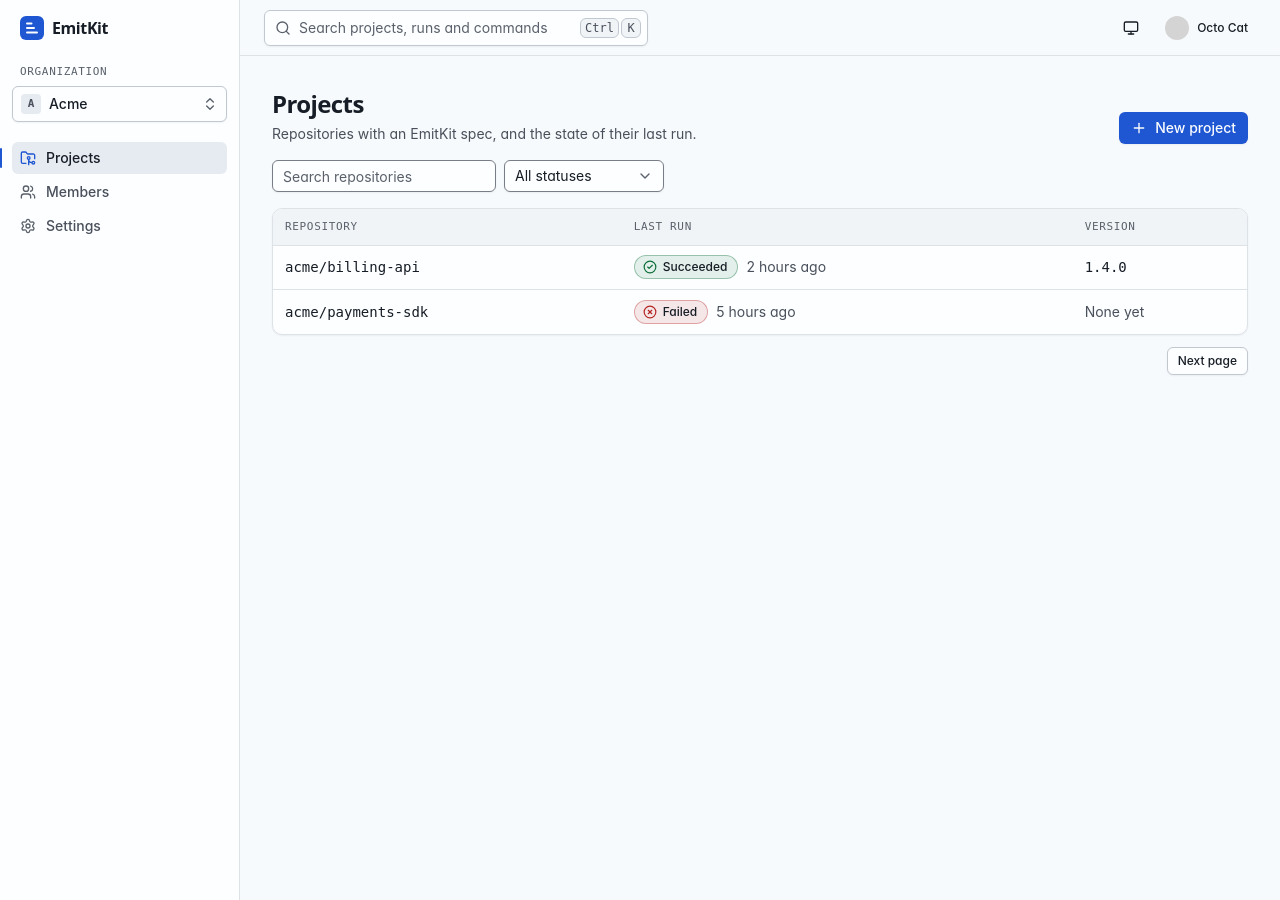
Test: a cursor page with no rows offers a way back to the first page
Expected: the link "acme/billing-api" is shown, [285,259,420,275]
Click the button "Next page".
click(1207, 360)  # box [1167,346,1248,374]
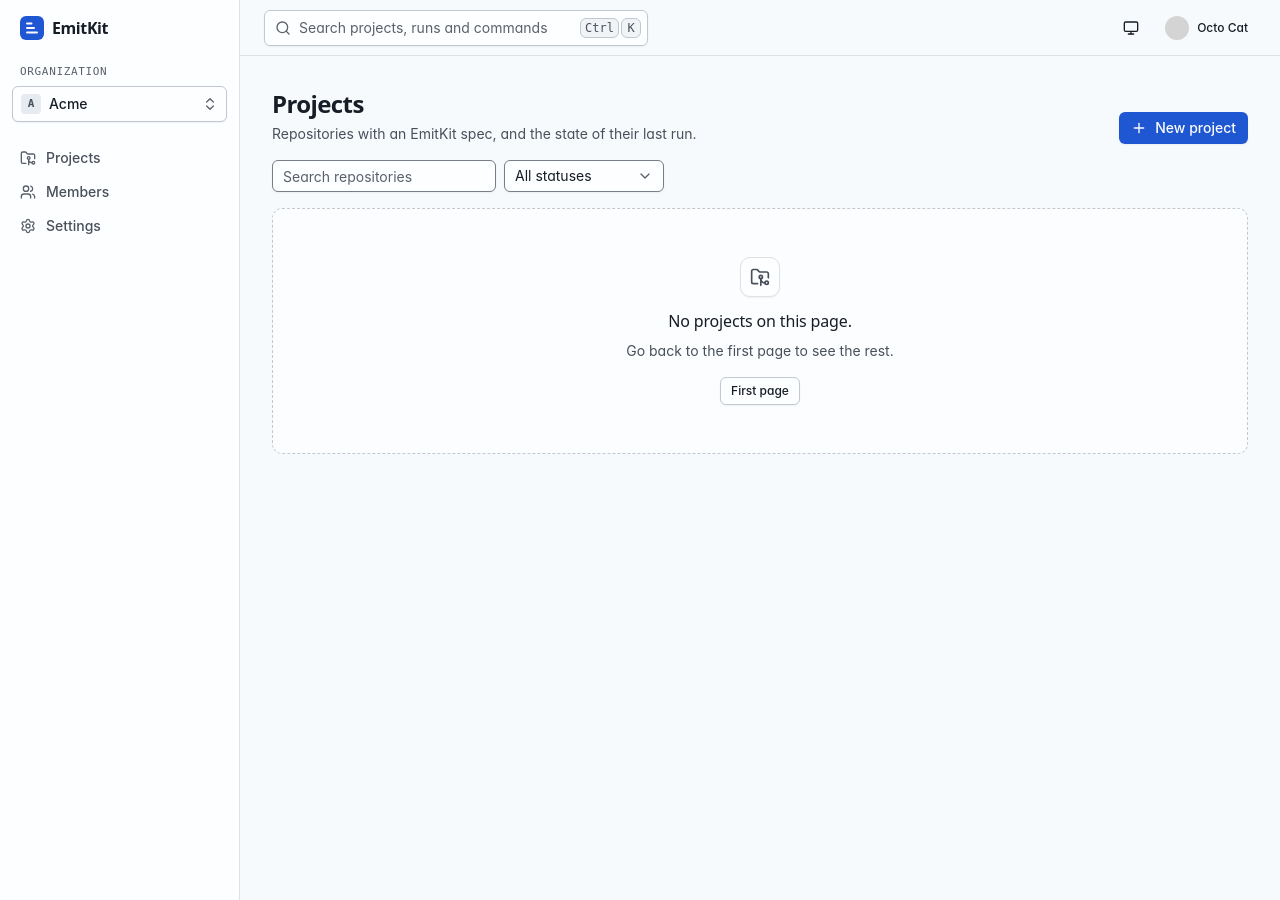
Expected: the heading "No projects on this page." is shown, [668,309,852,333]
Click the button "First page".
click(760, 391)  # box [720,377,800,405]
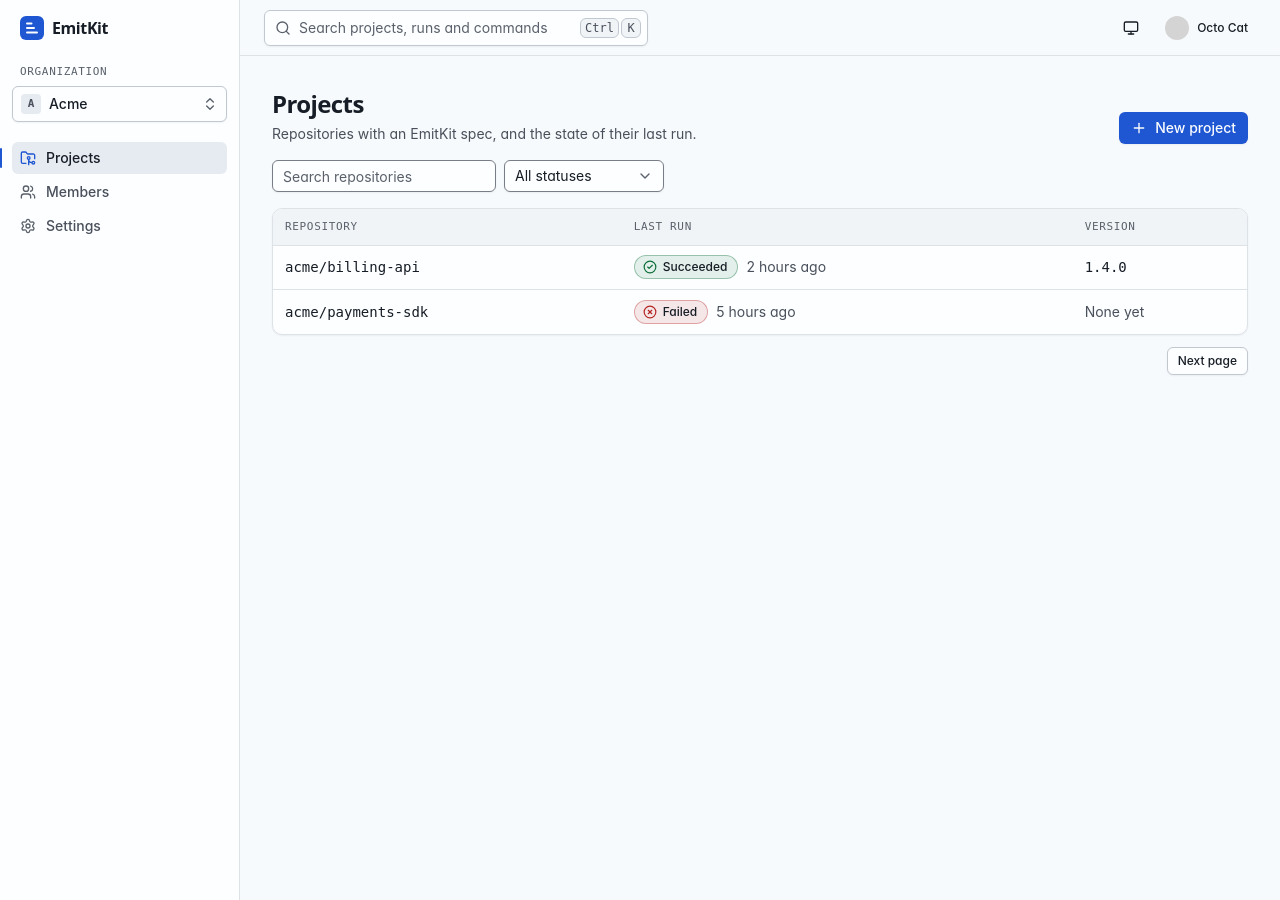
Expected: the link "acme/billing-api" is shown, [285,259,420,275]
